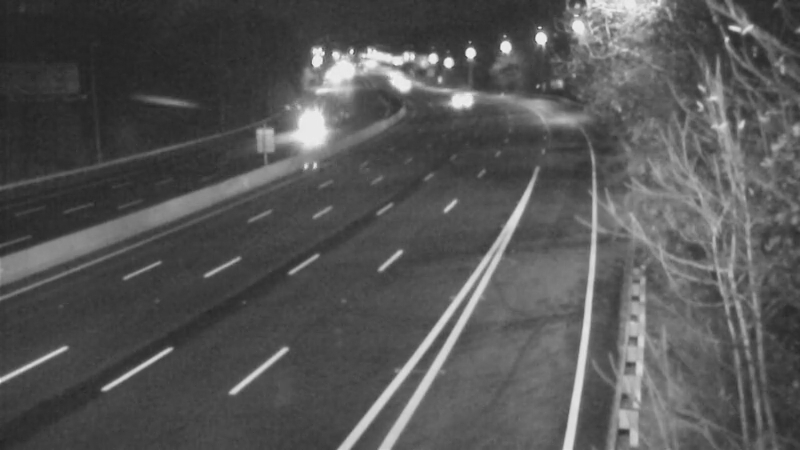vehicle: (376, 58, 426, 108), (431, 73, 481, 123), (285, 94, 335, 144)
